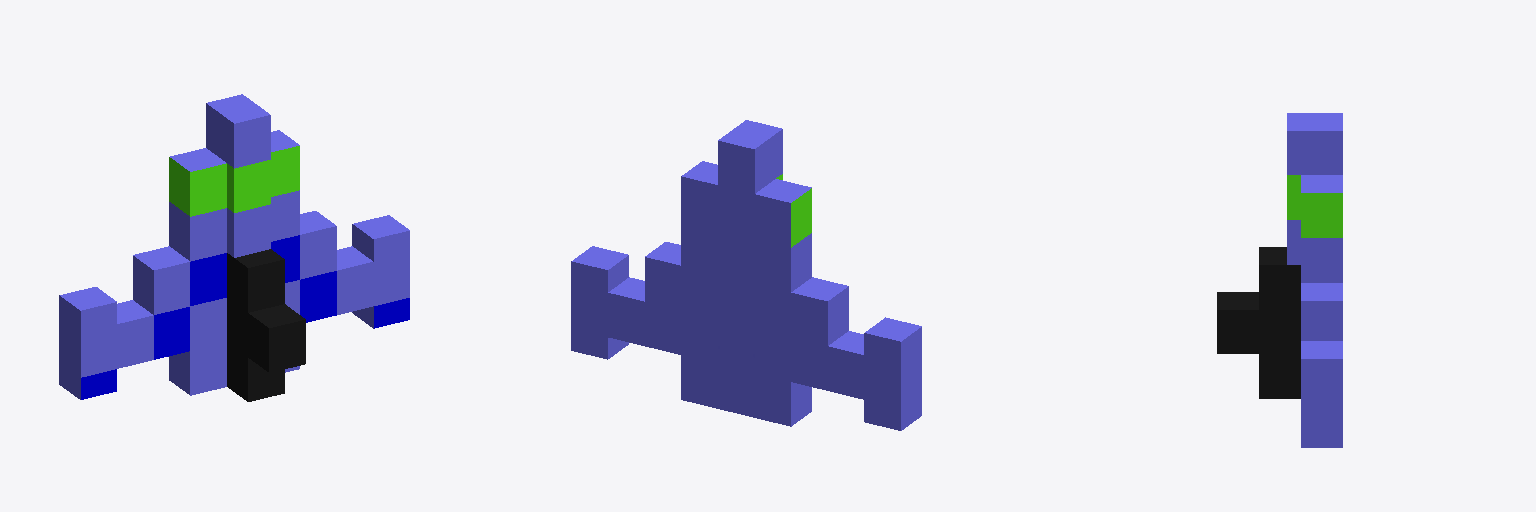
The picture shows the model from 3 angles: view 1: azimuth 30°, elevation 25°; view 2: azimuth 150°, elevation 25°; view 3: azimuth 270°, elevation 25°; orthographic projection.
Visible parts, largest first — view 1: Player_1; view 2: Player_1; view 3: Player_1.
Boxes of the visible parts, x1=… form: Player_1: x1=59, y1=94, x2=409, y2=401; Player_1: x1=571, y1=120, x2=921, y2=430; Player_1: x1=1217, y1=113, x2=1342, y2=447.
Bounding box in the file's own units: 8 × 6.23 × 2.67.
Materials: 1 (1 with a texture image).